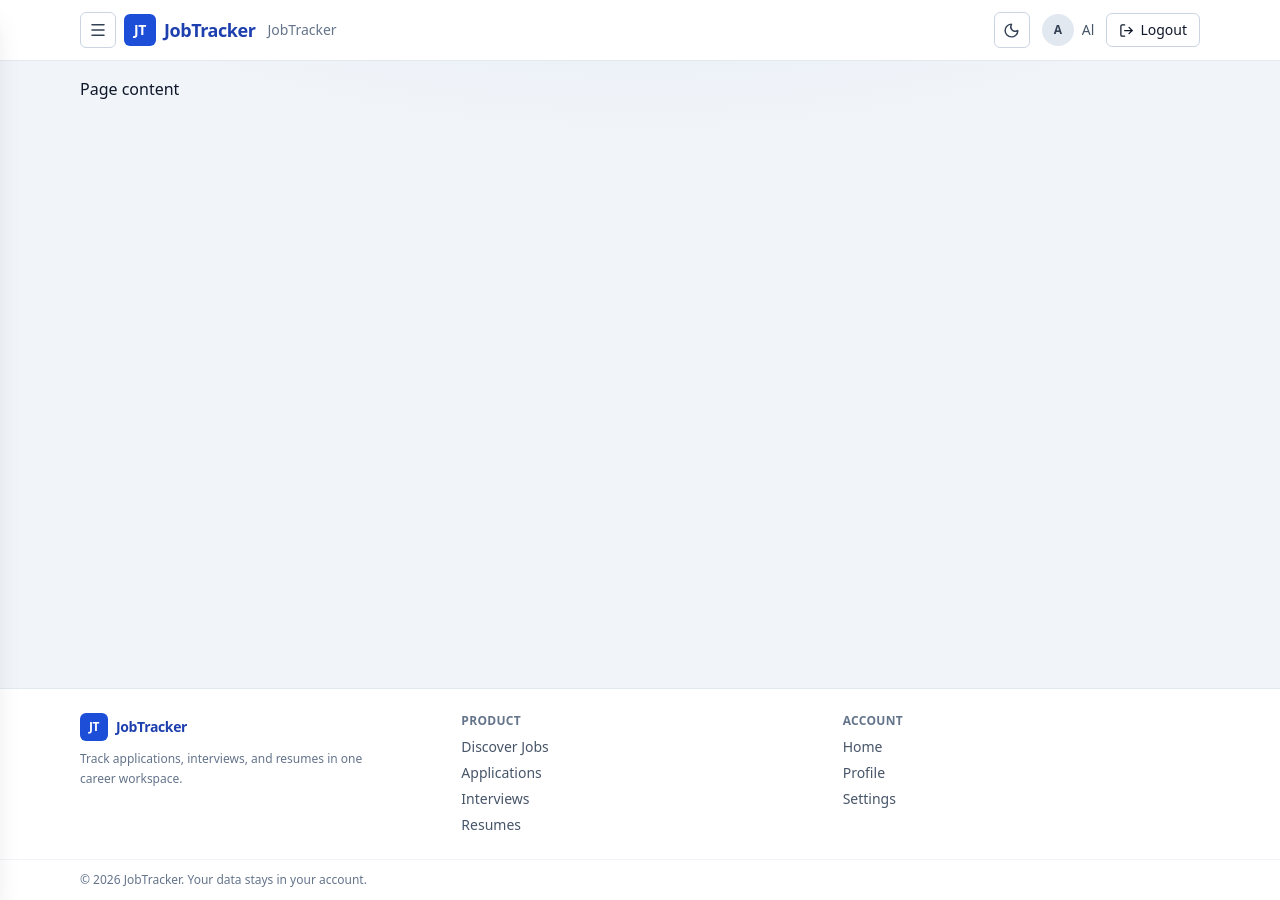
Test: navigation drawer › closes the drawer on Escape and on navigation
Expected: the text "Page content" is shown, [80,78,179,100]
Click the button named "Open navigation" at point(98, 30), box [80,12,116,48]
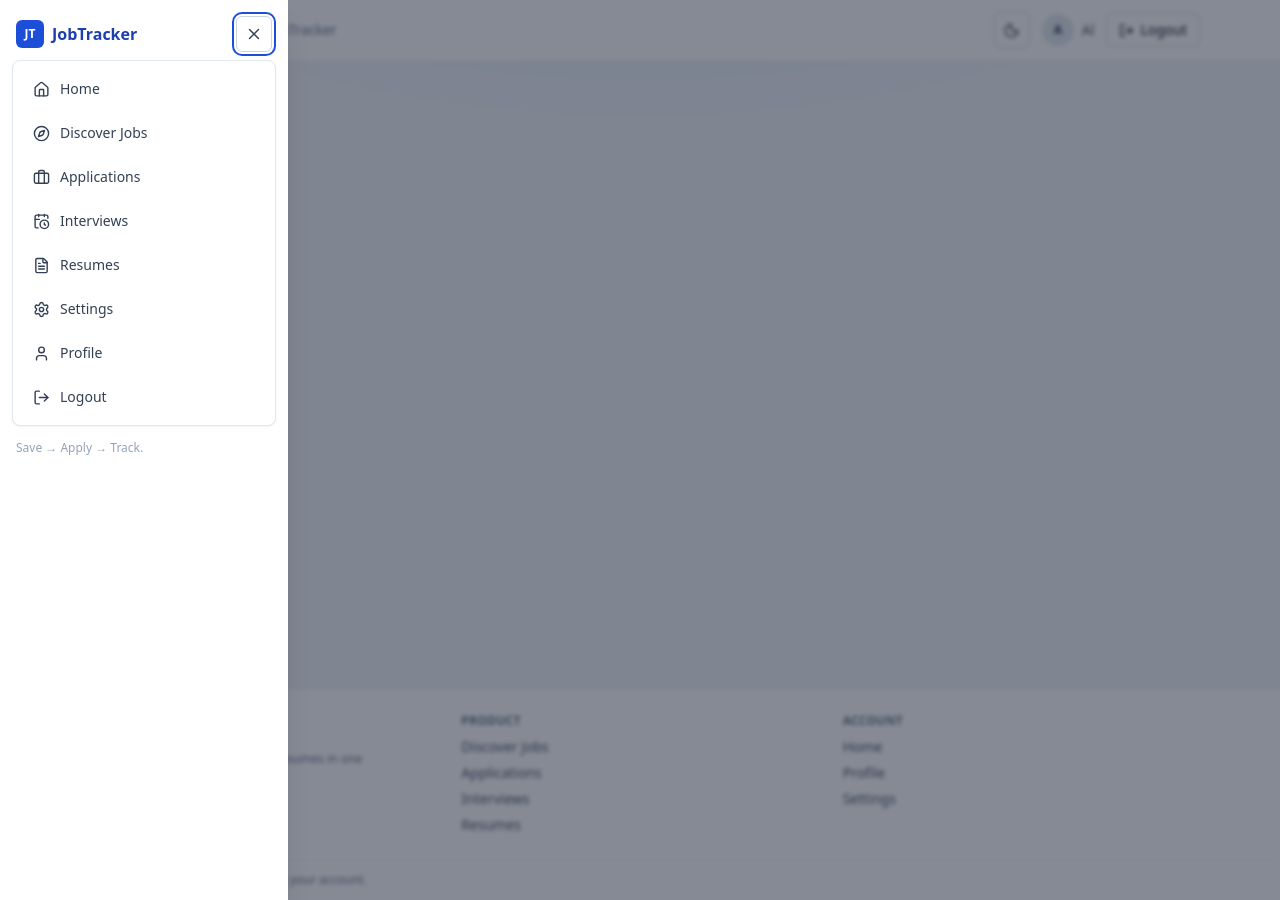
Now the element with test id "nav-backdrop" is shown
Press Escape
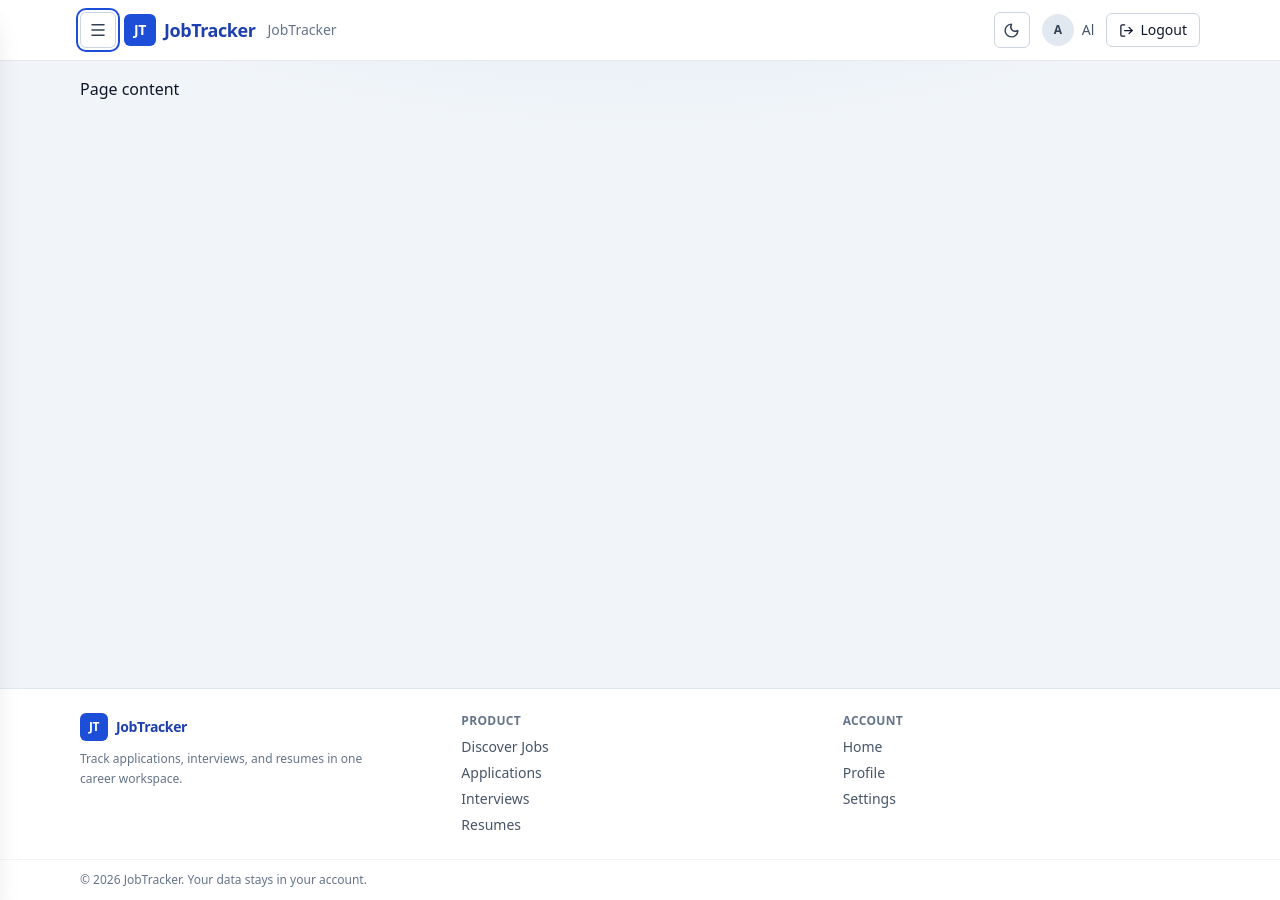
Now the element with test id "nav-backdrop" is gone
Click the button named "Open navigation" at point(98, 30), box [80,12,116,48]
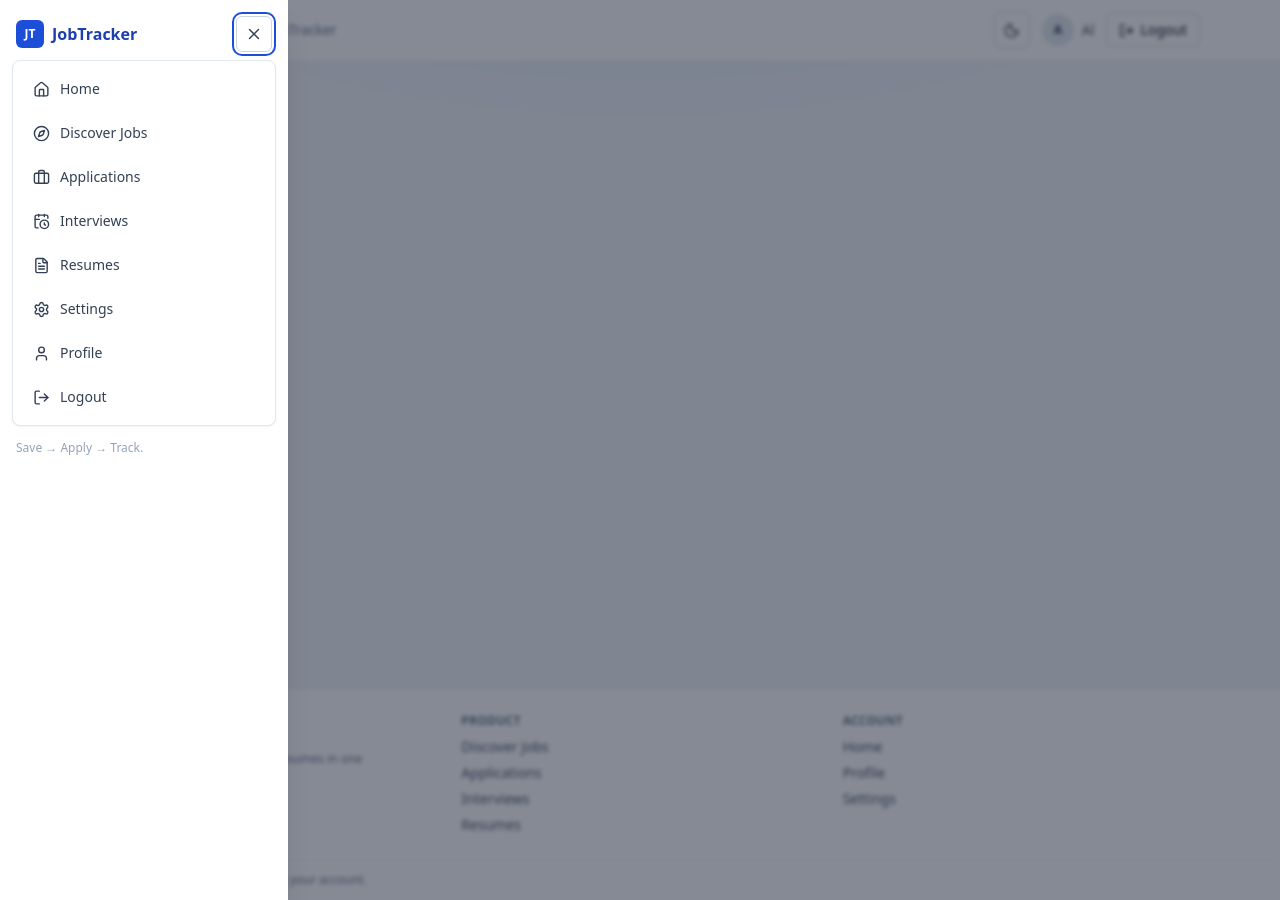
Now the element with test id "nav-backdrop" is shown
Click the link "Applications" at point(87, 176), box [33,167,140,186]
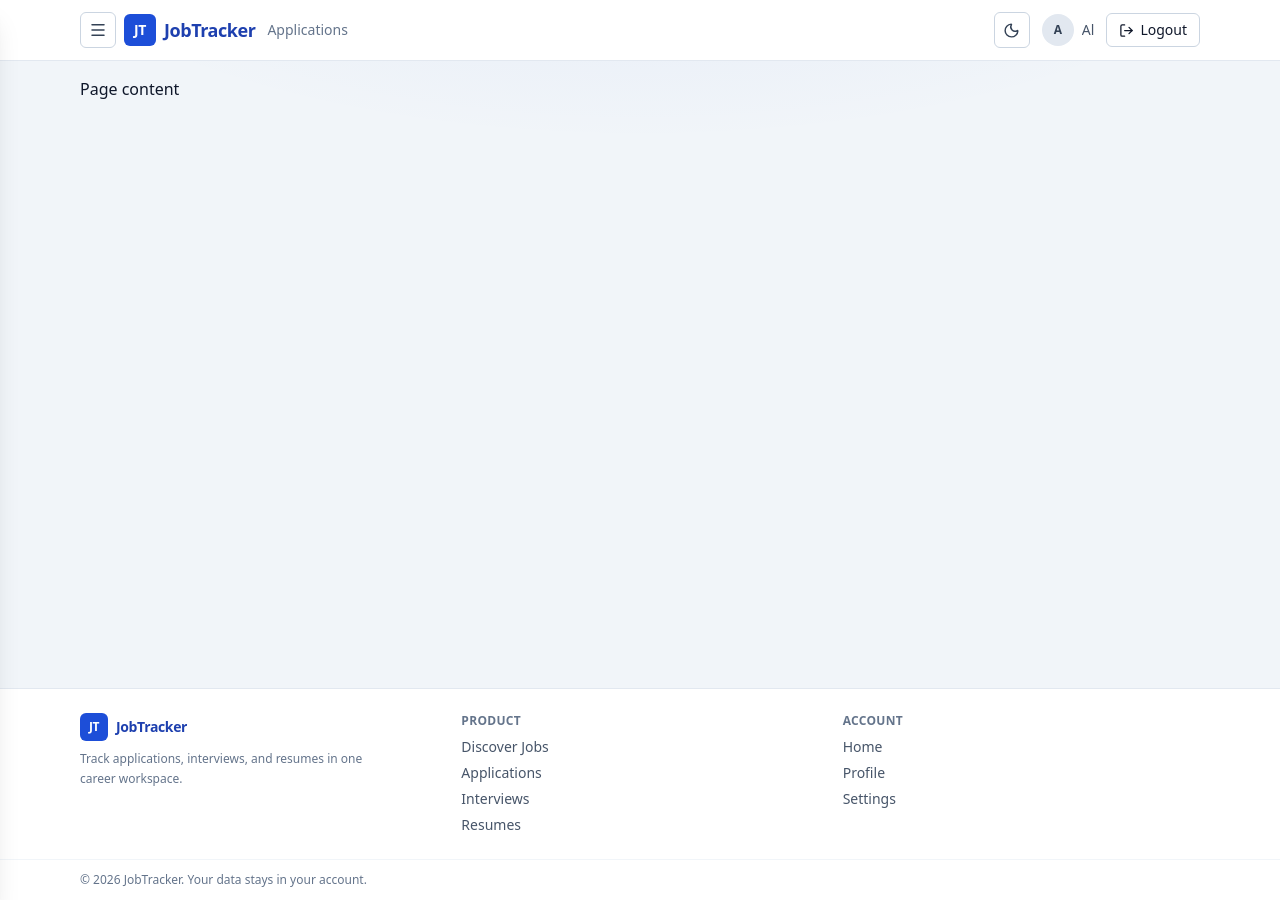
Now the element with test id "nav-backdrop" is gone
